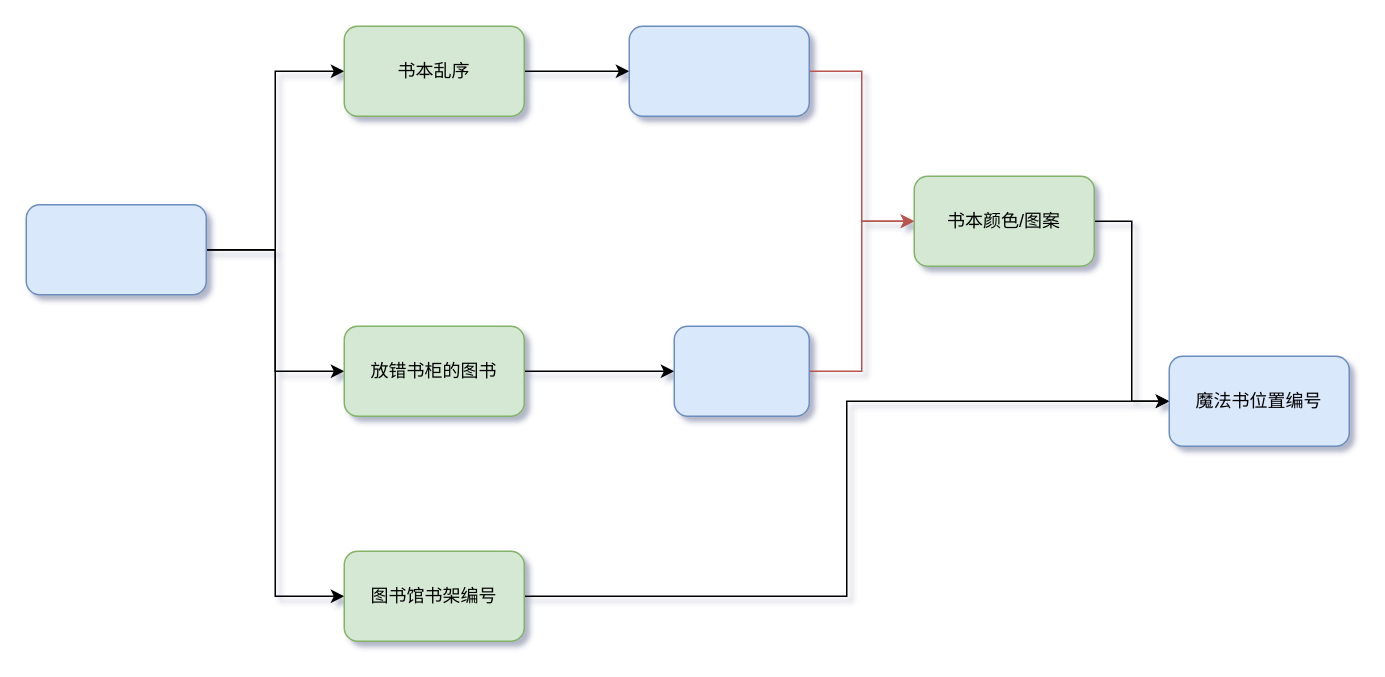
Some shapes in this 1385 by 677 pixel diagram are drawn without their labels. Here are the shapes that lost their labels. From the top down, the centre of each, then its label:
At (x=718, y=70): "正确顺序的图书".
At (x=115, y=249): "谜题入口".
At (x=741, y=370): "1-5号书柜的颜色对应表".
